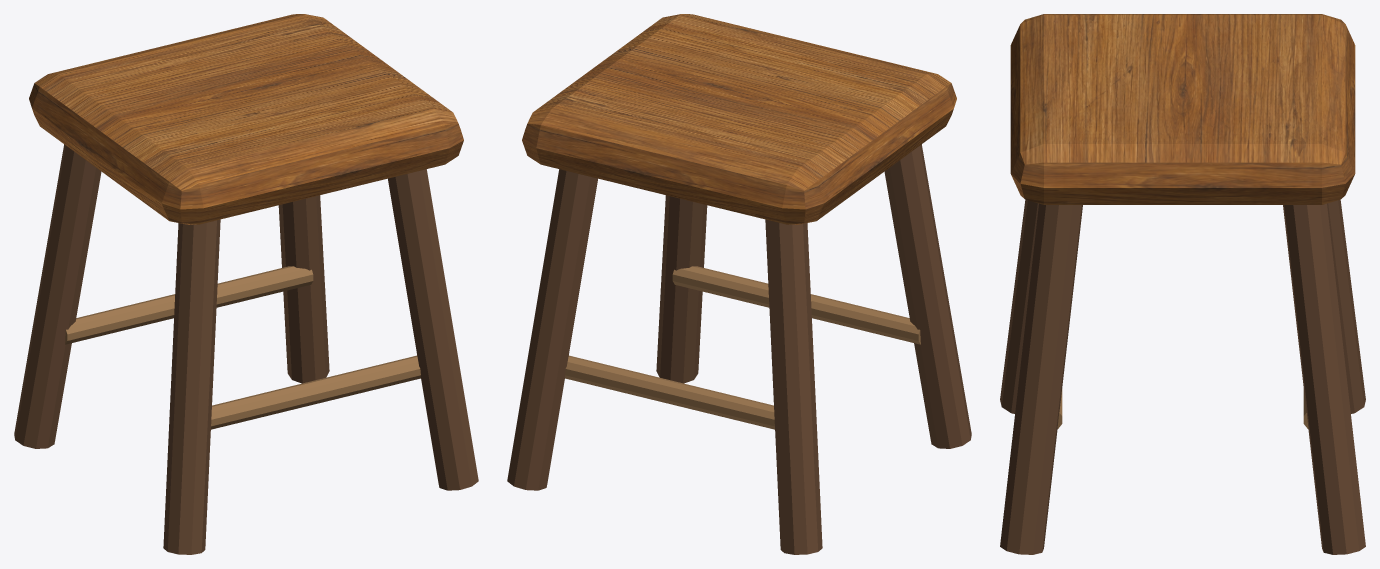
3 views of the same model, side by side, from view 1: azimuth 30°, elevation 25°; view 2: azimuth 150°, elevation 25°; view 3: azimuth 270°, elevation 25° (orthographic). The views are drawn at different scales.
Parts seen in each view (by area): view 1: workshop_bench, workshop_wood_dark, workshop_wood; view 2: workshop_bench, workshop_wood_dark, workshop_wood; view 3: workshop_bench, workshop_wood_dark.
Boxes of the visible parts, bbox=[...] form: workshop_bench: bbox=[29, 14, 463, 224]; workshop_wood_dark: bbox=[14, 144, 478, 554]; workshop_wood: bbox=[65, 266, 420, 429]; workshop_bench: bbox=[522, 14, 956, 224]; workshop_wood_dark: bbox=[507, 144, 971, 554]; workshop_wood: bbox=[565, 266, 920, 429]; workshop_bench: bbox=[1010, 14, 1355, 204]; workshop_wood_dark: bbox=[1000, 199, 1365, 554].
Bounding box in the file's own units: 0.5799 × 0.6653 × 0.5524.
3 materials, 1 textured.
